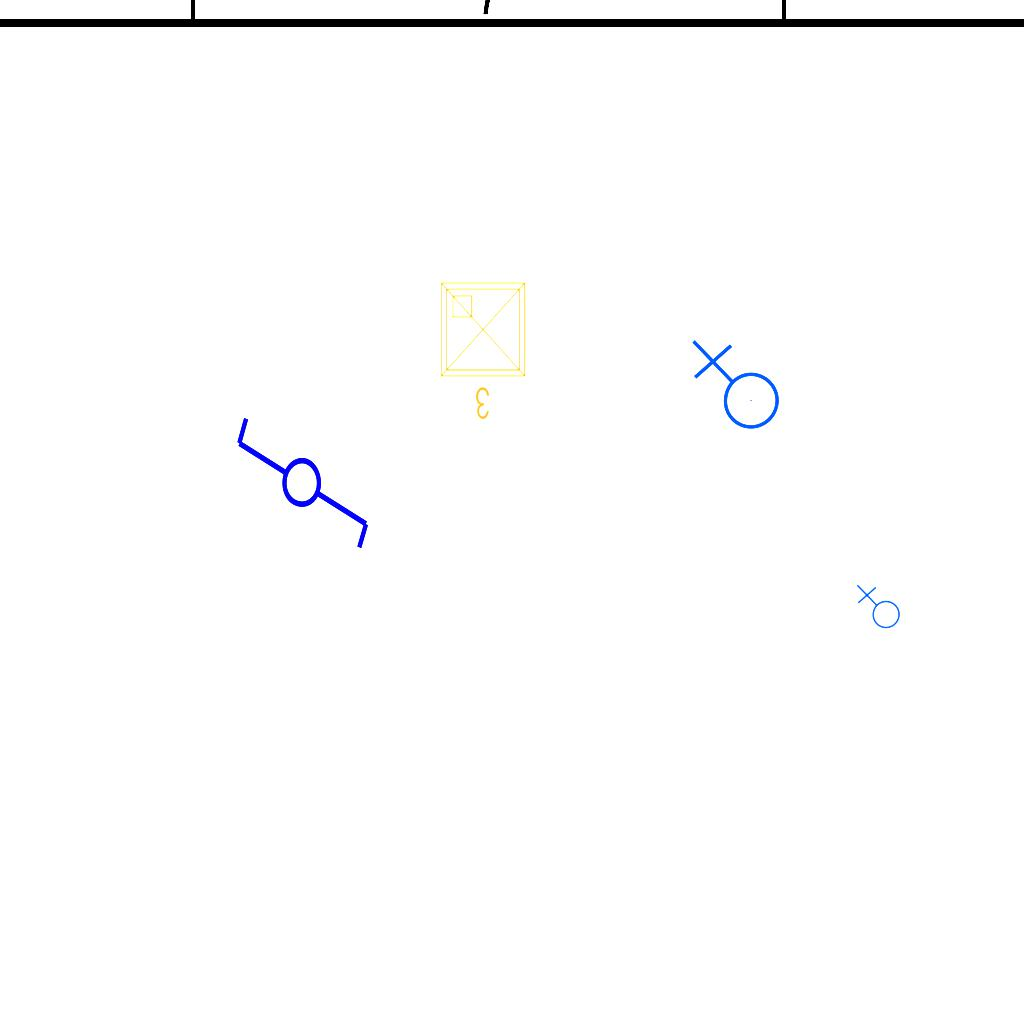Einbaudownlights_LED_Konferenzraeume: (433, 275, 537, 425)
Elektroanschluss_allgemein_230V_Geraeteanschlussdose_230V: (687, 339, 781, 438), (854, 584, 901, 633)
Wechselschalter: (232, 396, 376, 553)
